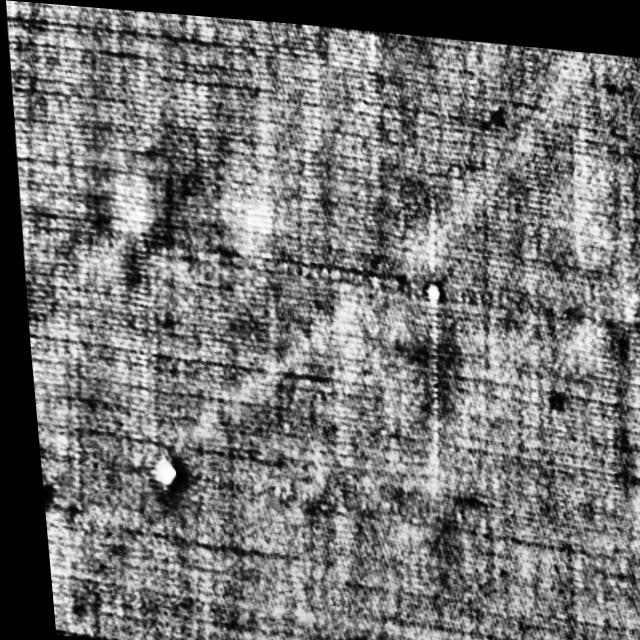Hole: (145, 457, 170, 487), (419, 274, 437, 295)
